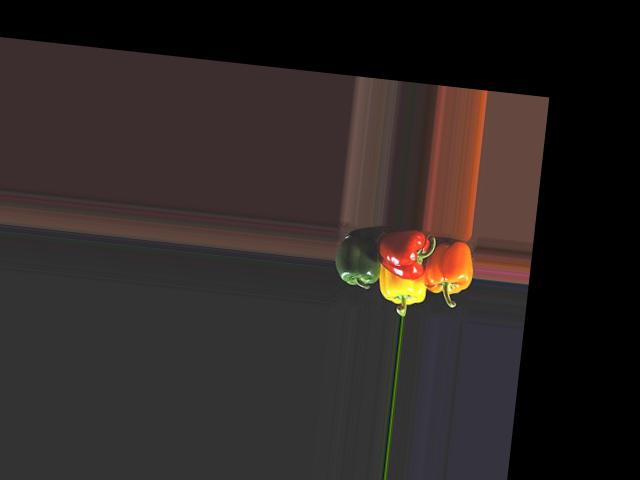bell_pepper: (420, 229, 477, 303)
